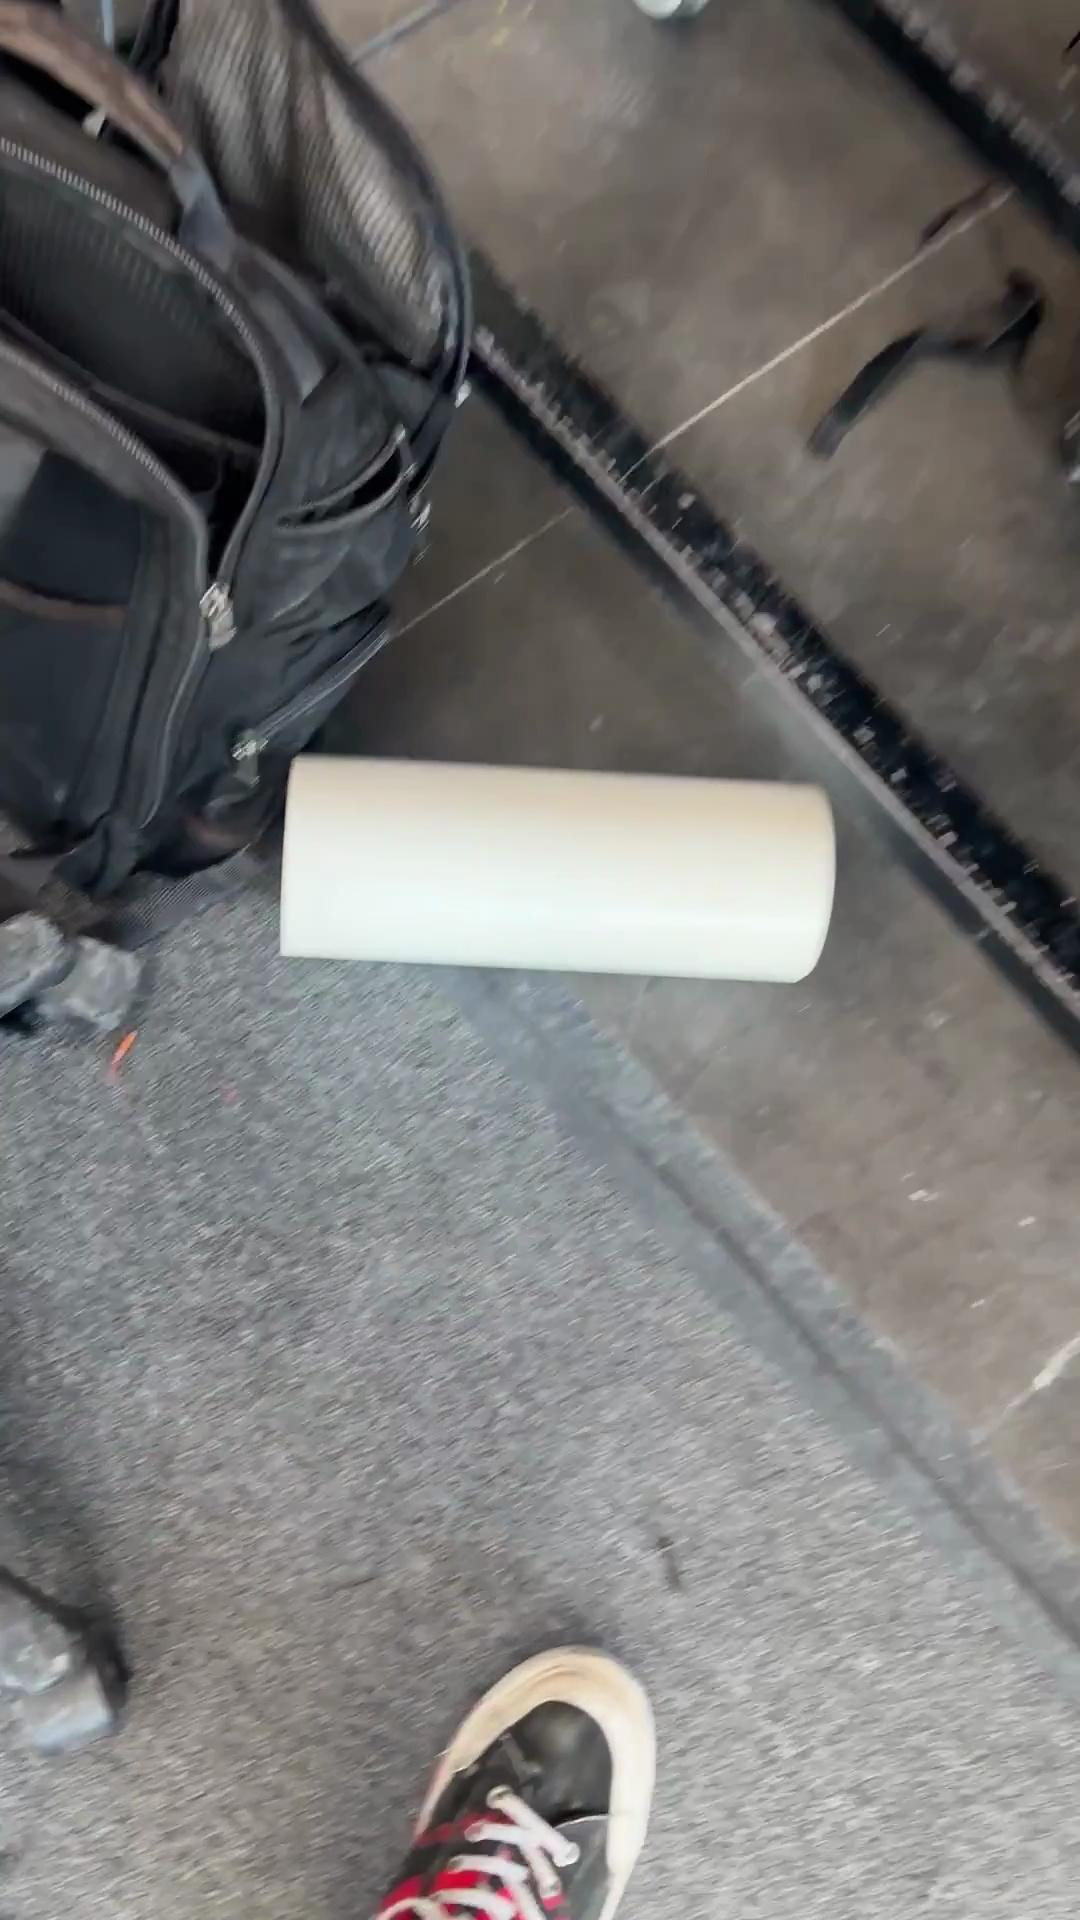CORAL: (276, 748, 837, 986)
